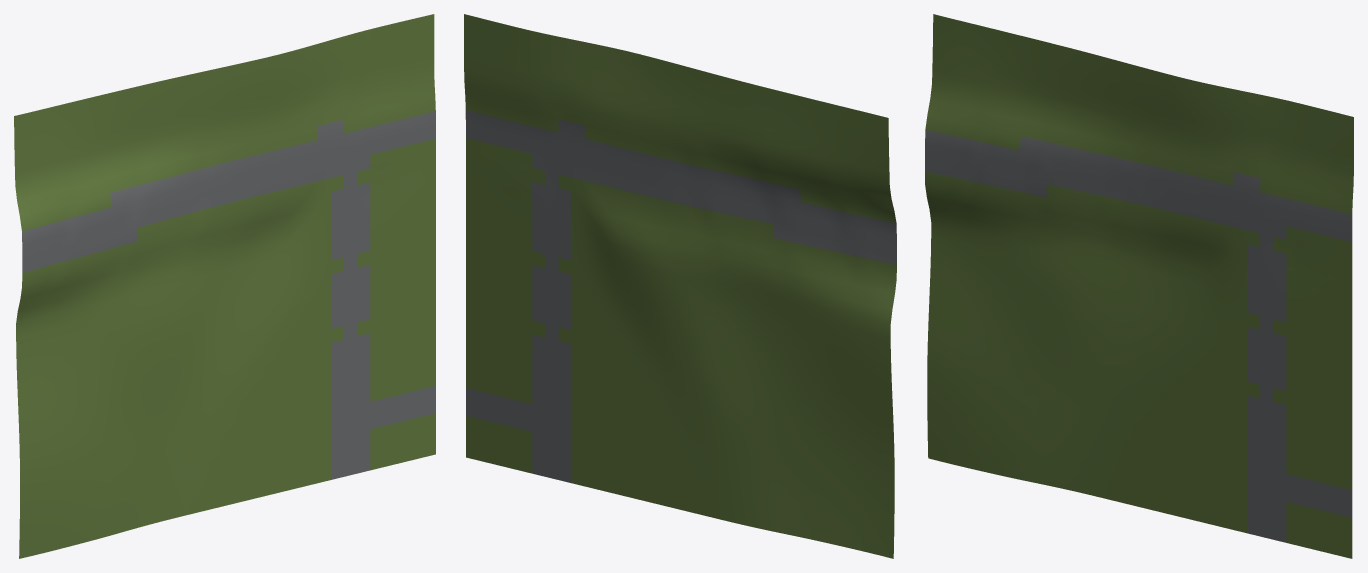
File: island_terrain_18_05.obj
3 views of the same model, side by side, from view 1: azimuth 30°, elevation 25°; view 2: azimuth 150°, elevation 25°; view 3: azimuth 330°, elevation 25° (orthographic).
Parts seen in each view (by area): view 1: island_terrain_18_05; view 2: island_terrain_18_05; view 3: island_terrain_18_05.
Boxes of the visible parts, left/top/right/bottom form: island_terrain_18_05: left=14, top=14, right=435, bottom=558; island_terrain_18_05: left=464, top=14, right=896, bottom=558; island_terrain_18_05: left=925, top=14, right=1353, bottom=558.
Bounding box in the file's own units: 256 × 256 × 9.77.
